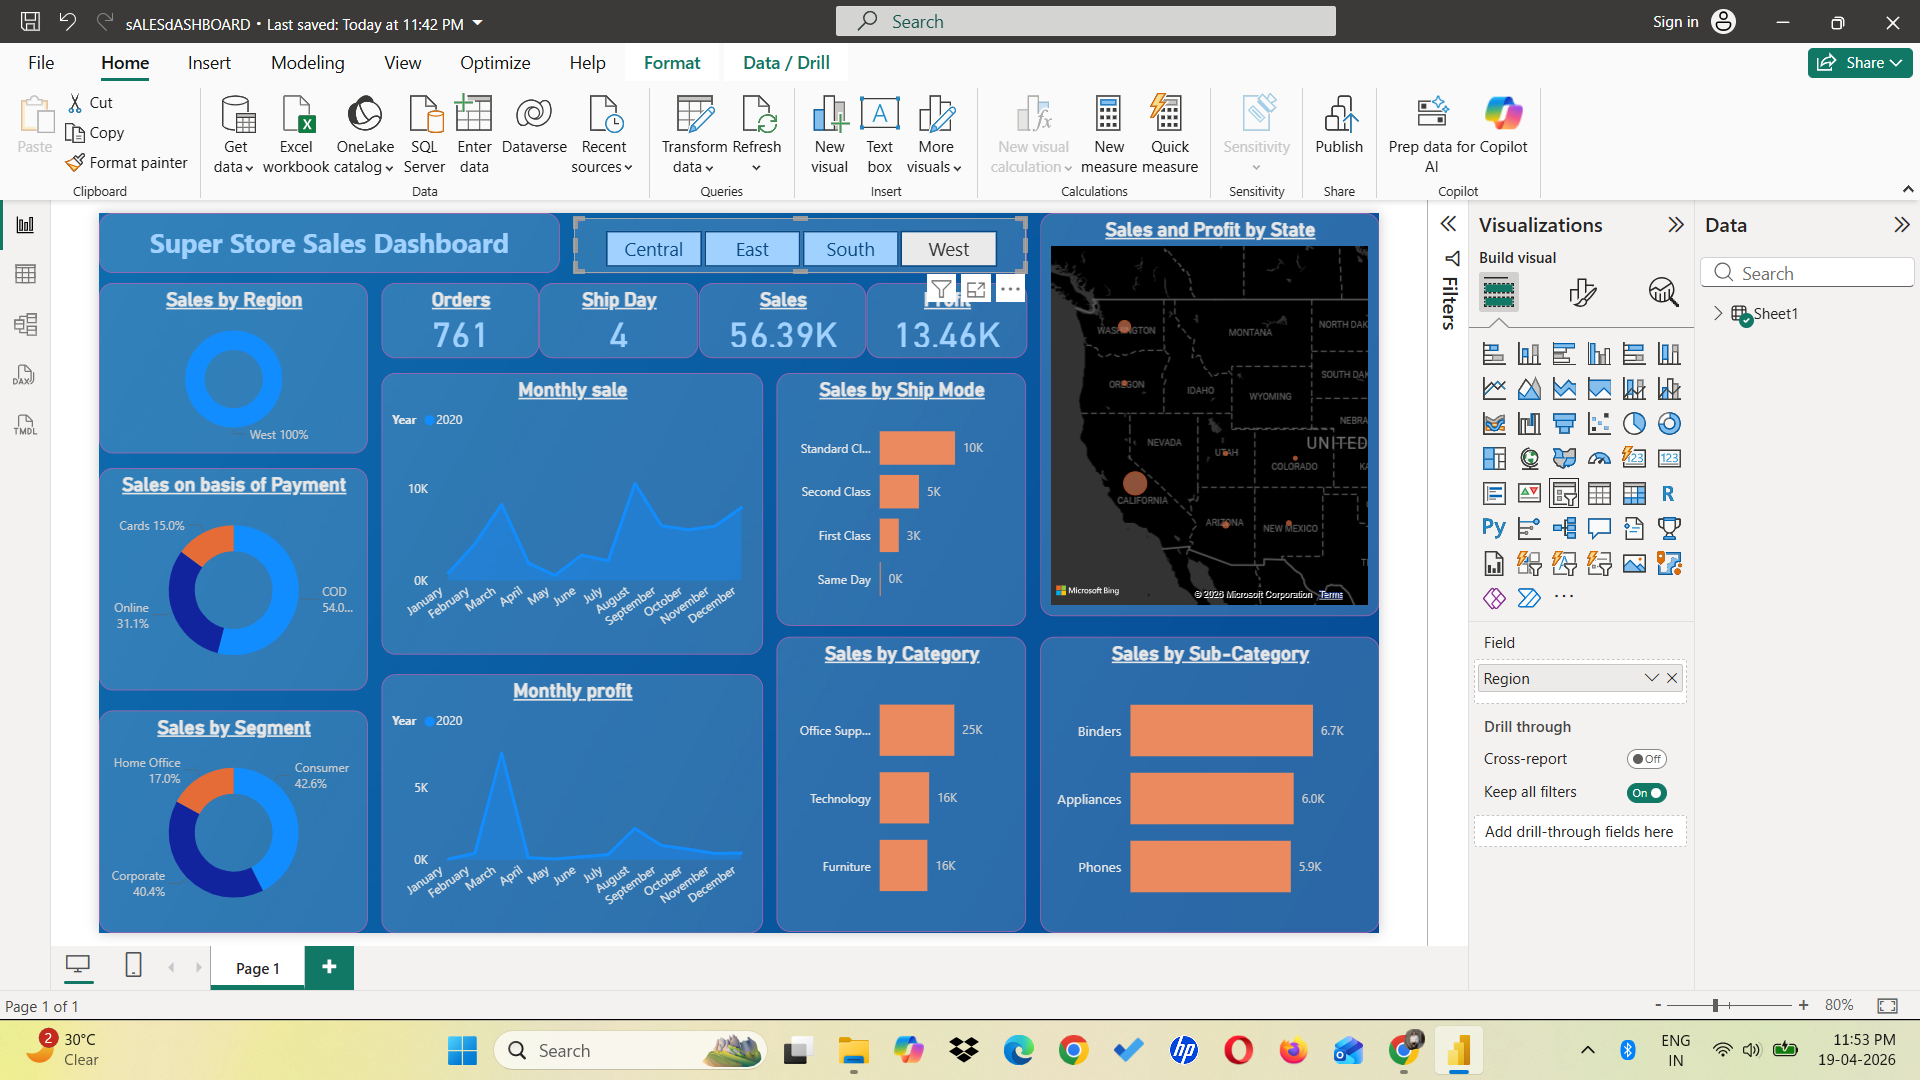

Layout of this report page (visuals, bound fields, positions):
{"tool":"powerbi","page":{"name":"Page 1","canvas":[1280,720],"ordinal":0},"visuals":[{"type":"clusteredBarChart","title":"Sales by Category","fields":{"Category":["Sheet1.Category"],"Y":["Sum(Sheet1.Sales)"]},"box":[677.9,424,249.7,295],"z":0},{"type":"clusteredBarChart","title":"Sales by Sub-Category","fields":{"Category":["Sheet1.Sub-Category"],"Y":["Sum(Sheet1.Sales)"]},"box":[941.3,424,338.9,296.4],"z":1000},{"type":"clusteredBarChart","title":"Sales by Ship Mode","fields":{"Category":["Sheet1.Ship Mode"],"Y":["Sum(Sheet1.Sales)"]},"box":[677.9,160.5,249.7,252.5],"z":2000},{"type":"stackedAreaChart","title":"Monthly profit","fields":{"Category":["Sheet1.Order Date.Variation.Date Hierarchy.Month","Sheet1.Order Date.Variation.Date Hierarchy.Day"],"Series":["Sheet1.Order Date.Variation.Date Hierarchy.Year"],"Y":["Sum(Sheet1.Profit)"]},"box":[282.7,461.1,381.5,259.3],"z":3000},{"type":"stackedAreaChart","title":"Monthly sale ","fields":{"Y":["Sum(Sheet1.Sales)"],"Category":["Sheet1.Order Date.Variation.Date Hierarchy.Month","Sheet1.Order Date.Variation.Date Hierarchy.Day"],"Series":["Sheet1.Order Date.Variation.Date Hierarchy.Year"]},"box":[282.7,160.5,381.5,281.3],"z":4000},{"type":"map","title":"Sales and Profit by State","fields":{"Category":["Sheet1.State"],"Size":["Sum(Sheet1.Sales)"]},"box":[941.3,0,338.9,403.4],"z":5000},{"type":"donutChart","title":"Sales by Segment","fields":{"Category":["Sheet1.Segment"],"Y":["Sum(Sheet1.Sales)"]},"box":[0,498.1,269,222.3],"z":6000},{"type":"donutChart","title":"Sales on basis of Payment","fields":{"Category":["Sheet1.Payment Mode"],"Y":["Sum(Sheet1.Sales)"]},"box":[0,255.2,269,222.3],"z":7000},{"type":"slicer","fields":{"Values":["Sheet1.Region"]},"box":[474.8,5.5,452.8,54.9],"z":8000},{"type":"textbox","box":[0,0,461.1,60.4],"z":9000},{"type":"card","title":"Sales","fields":{"Values":["Sum(Sheet1.Sales)"]},"box":[599.7,70,167.4,75.5],"z":10000},{"type":"card","title":"Profit","fields":{"Values":["Sum(Sheet1.Profit)"]},"box":[767.1,70,160.5,75.5],"z":11000},{"type":"card","title":"Ship Day","fields":{"Values":["Avg(Sheet1.AvgDelivery)"]},"box":[440.5,70,159.2,75.5],"z":12000},{"type":"card","title":"Orders","fields":{"Values":["Sum(Sheet1.Quantity)"]},"box":[282.7,70,157.8,75.5],"z":13000},{"type":"donutChart","title":"Sales by Region","fields":{"Y":["Sum(Sheet1.Sales)"],"Category":["Sheet1.Region"]},"box":[0,70,269,170.2],"z":13001}]}

Visuals, with their boxes on the page's 1280x720 design canvas (x1, y1, x2, y2). These are canvas units, not pixel positions in the 1920x1080 screenshot, which may show the page scaled, cropped or inside an application window:
"Sales by Category" clusteredBarChart: BBox(678, 424, 928, 719)
"Sales by Sub-Category" clusteredBarChart: BBox(941, 424, 1280, 720)
"Sales by Ship Mode" clusteredBarChart: BBox(678, 160, 928, 413)
"Monthly profit" stackedAreaChart: BBox(283, 461, 664, 720)
"Monthly sale " stackedAreaChart: BBox(283, 160, 664, 442)
"Sales and Profit by State" map: BBox(941, 0, 1280, 403)
"Sales by Segment" donutChart: BBox(0, 498, 269, 720)
"Sales on basis of Payment" donutChart: BBox(0, 255, 269, 478)
slicer - Sheet1.Region: BBox(475, 6, 928, 60)
textbox: BBox(0, 0, 461, 60)
"Sales" card: BBox(600, 70, 767, 146)
"Profit" card: BBox(767, 70, 928, 146)
"Ship Day" card: BBox(440, 70, 600, 146)
"Orders" card: BBox(283, 70, 440, 146)
"Sales by Region" donutChart: BBox(0, 70, 269, 240)
